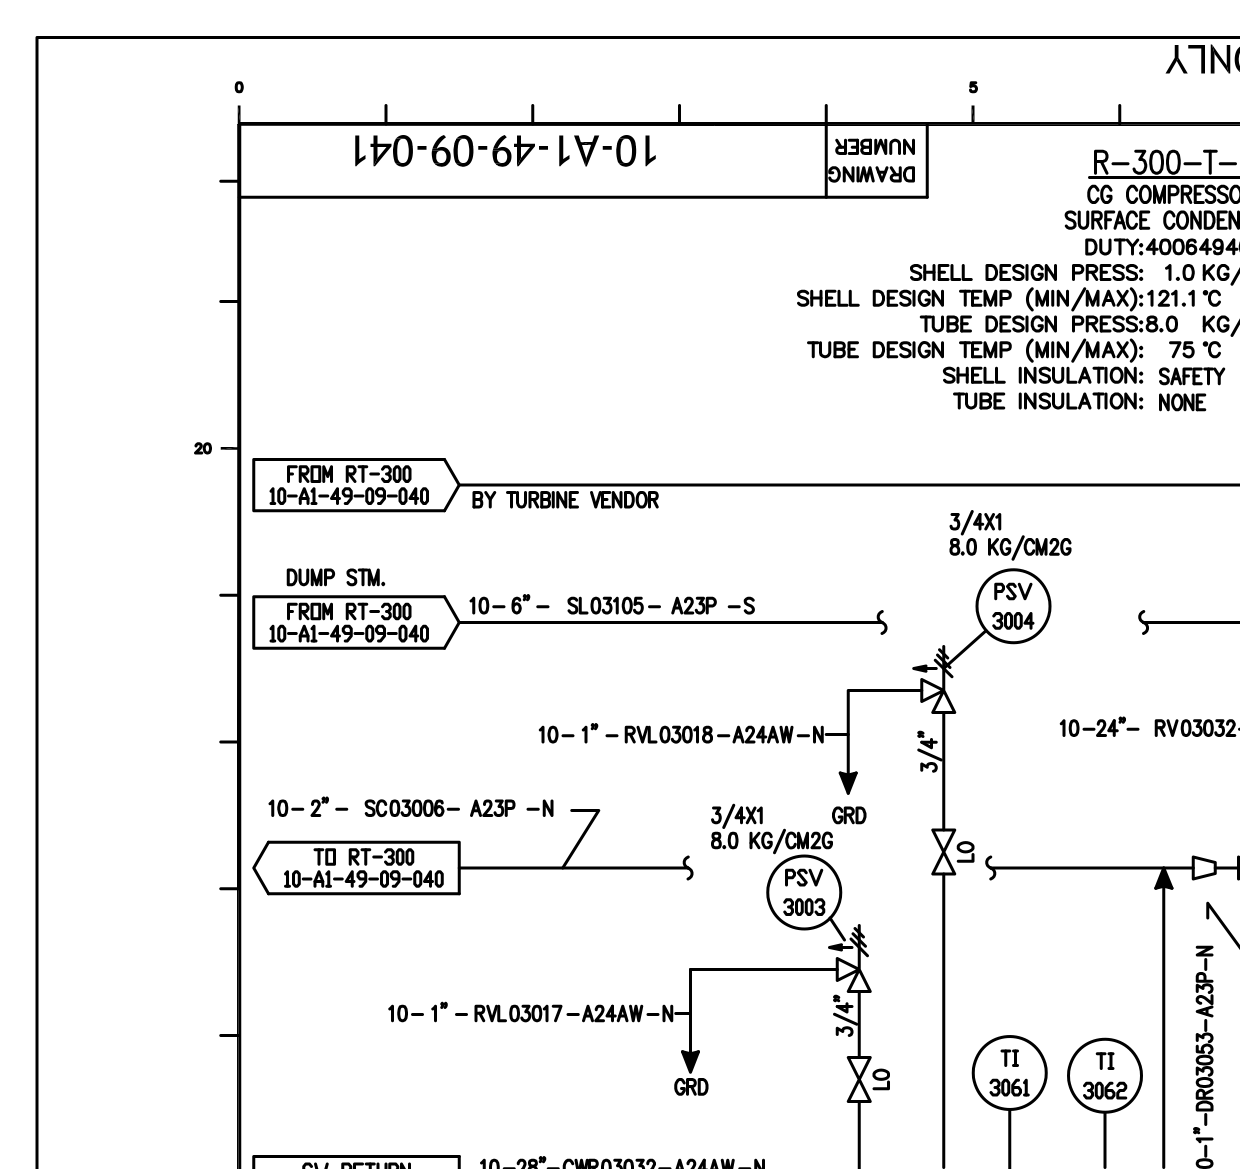Instrument Tag: (967, 1026, 1053, 1116), (971, 563, 1057, 653), (764, 848, 850, 938), (1063, 1028, 1149, 1118)
Line Number: (535, 720, 830, 747), (382, 999, 677, 1026), (468, 592, 763, 619), (267, 794, 562, 821), (1187, 942, 1219, 1169), (1053, 715, 1240, 743)
PSV: (827, 918, 883, 1003), (909, 641, 965, 724)
Page In: (248, 450, 469, 521), (247, 584, 468, 655)
Page Out: (246, 834, 491, 905)
Reducer: (1183, 851, 1225, 886)
Valve: (840, 1047, 876, 1115), (927, 820, 963, 888)
